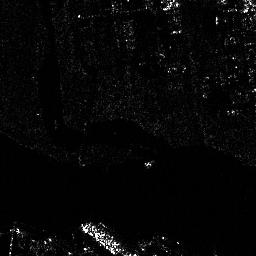ship: (80, 221, 123, 253)
